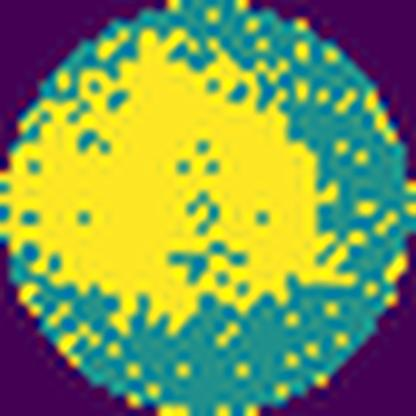Loc: (1, 29, 362, 340)
